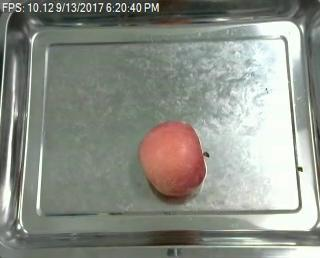apple: (137, 119, 208, 198)
